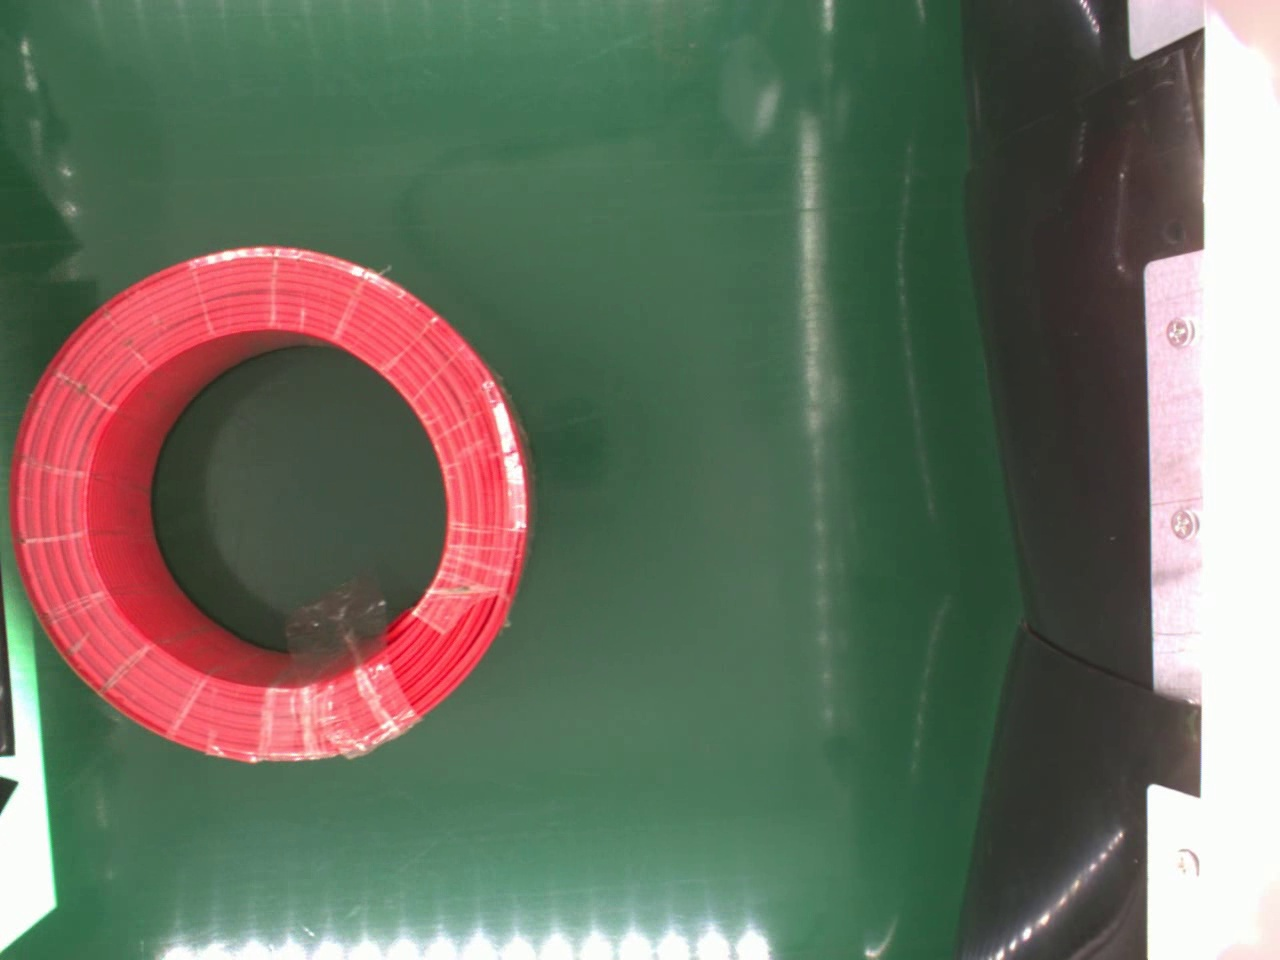red: (12, 245, 535, 763)
